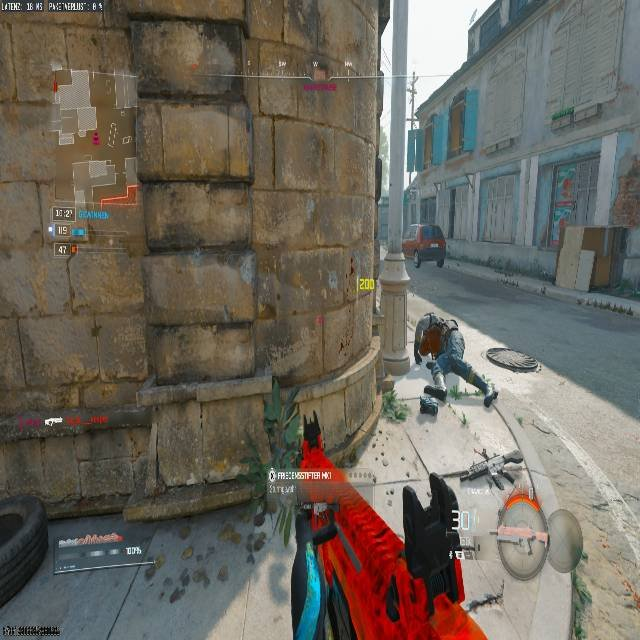player: (411, 223, 448, 272)
